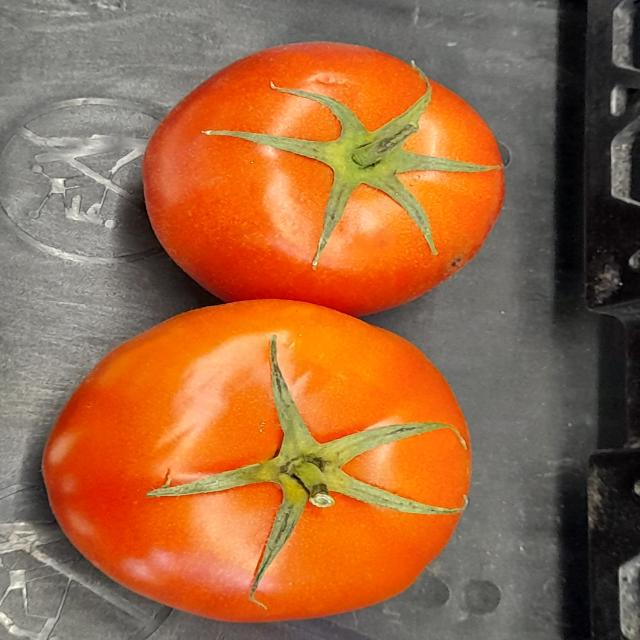tomato: (48, 292, 468, 623), (124, 22, 525, 318)
